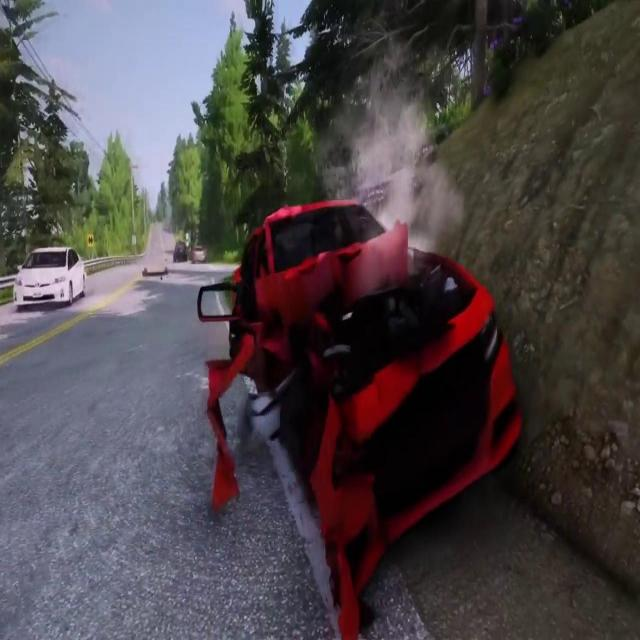accident: (193, 188, 529, 638)
